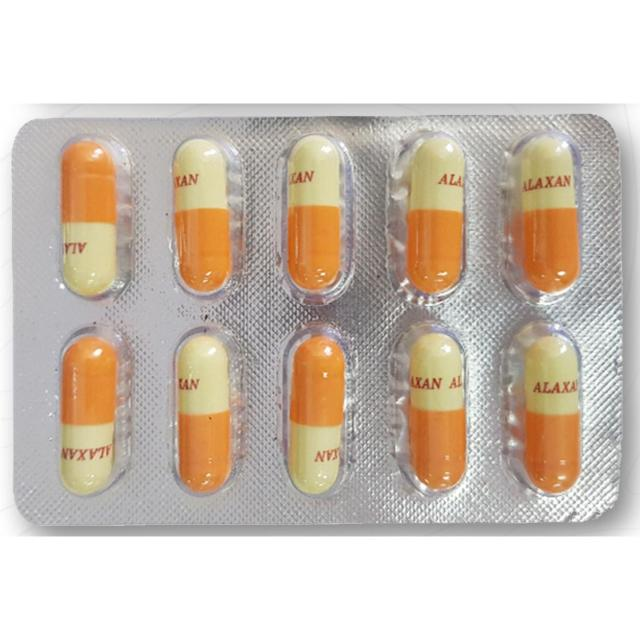blister: (7, 107, 631, 532)
